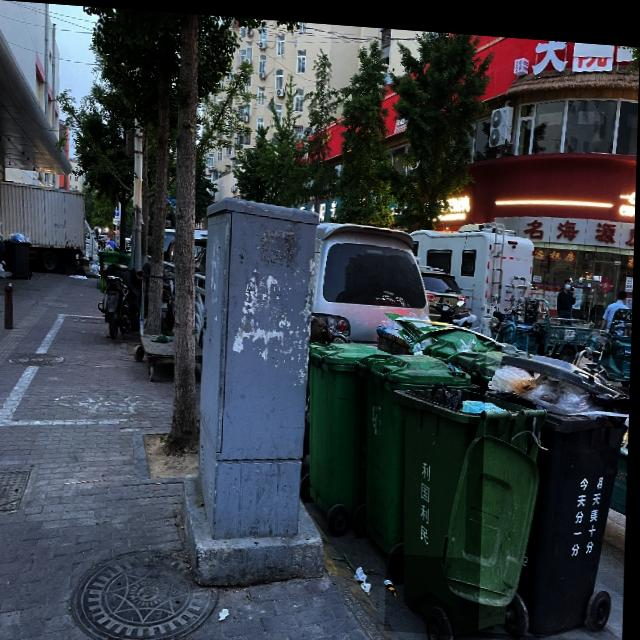garbage_bin: (354, 342, 473, 551), (308, 335, 394, 515), (99, 247, 119, 289)
overflow: (482, 342, 632, 632), (388, 373, 550, 633), (4, 231, 33, 278)
